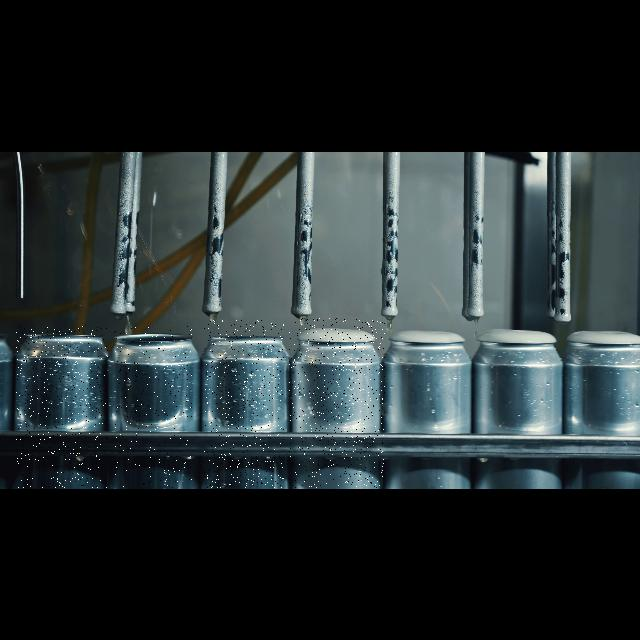empty: (16, 326, 108, 488), (204, 320, 284, 488), (114, 326, 192, 488)
full: (289, 318, 385, 488)
